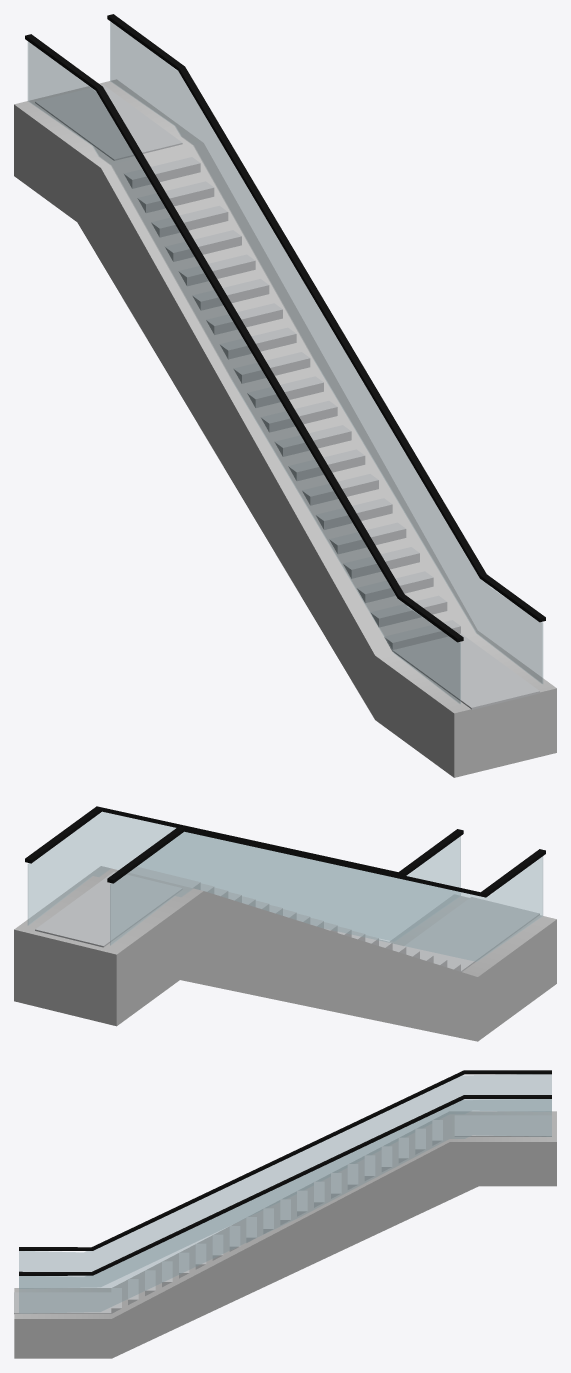
File: airport.move.escalator_4000.glb
3 views of the same model, one above another, from view 1: azimuth 30°, elevation 25°; view 2: azimuth 150°, elevation 25°; view 3: azimuth 270°, elevation 25° (orthographic). The views are drawn at different scales.
Parts seen in each view (by area): view 1: truss__steel_stainless, balustrade__glass, steps__aluminium, balustrade__rubber; view 2: truss__steel_stainless, balustrade__glass, steps__aluminium, balustrade__rubber; view 3: truss__steel_stainless, balustrade__glass, steps__aluminium, balustrade__rubber.
Boxes of the visible parts, <box> form: truss__steel_stainless: <box>14,79,556,777</box>; balustrade__glass: <box>28,21,542,704</box>; steps__aluminium: <box>35,85,539,709</box>; balustrade__rubber: <box>25,14,545,642</box>; truss__steel_stainless: <box>14,866,556,1041</box>; balustrade__glass: <box>28,812,542,961</box>; steps__aluminium: <box>35,867,539,971</box>; balustrade__rubber: <box>25,806,545,897</box>; truss__steel_stainless: <box>14,1111,556,1358</box>; balustrade__glass: <box>19,1074,551,1313</box>; steps__aluminium: <box>14,1115,551,1313</box>; balustrade__rubber: <box>19,1070,551,1275</box>.
Bounding box in the file's own units: 1.5 × 5.87 × 11.13.
